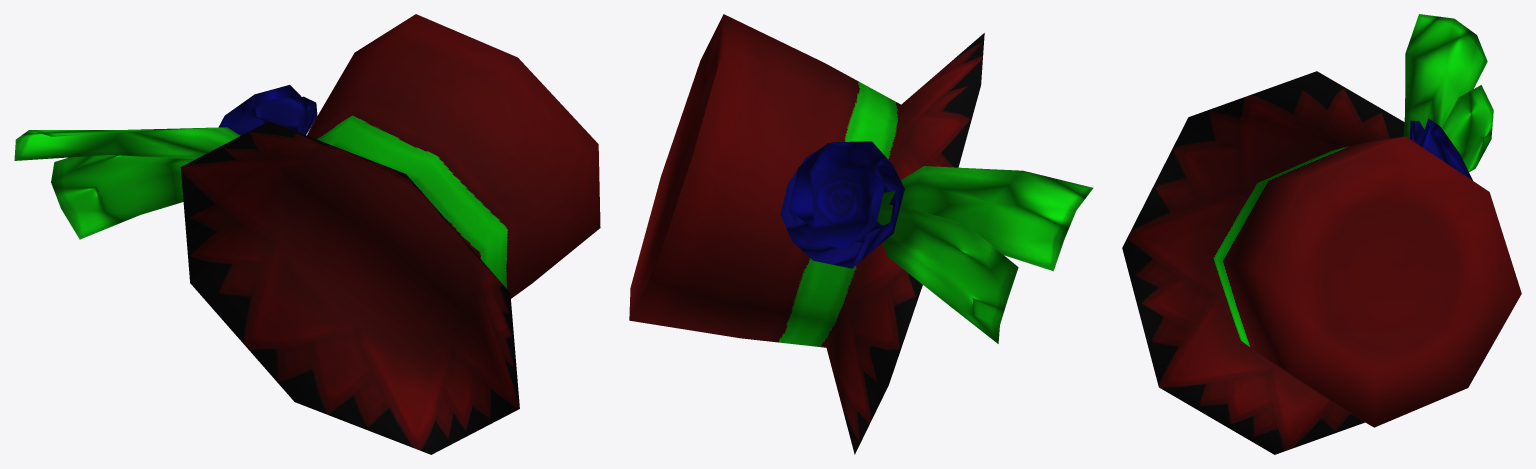
3 renders of one model, left to right at view 1: azimuth 30°, elevation 25°; view 2: azimuth 150°, elevation 25°; view 3: azimuth 270°, elevation 25°, orthographic. The views are drawn at different scales.
Visible parts, largest first — view 1: C1232; view 2: C1232; view 3: C1232.
Boxes of the visible parts, box(x1,y1,x2,y2) form: C1232: box(14, 14, 600, 454); C1232: box(629, 14, 1093, 454); C1232: box(1122, 14, 1521, 454).
Size of the model in its own units: 0.2834 by 0.2101 by 0.2214.
